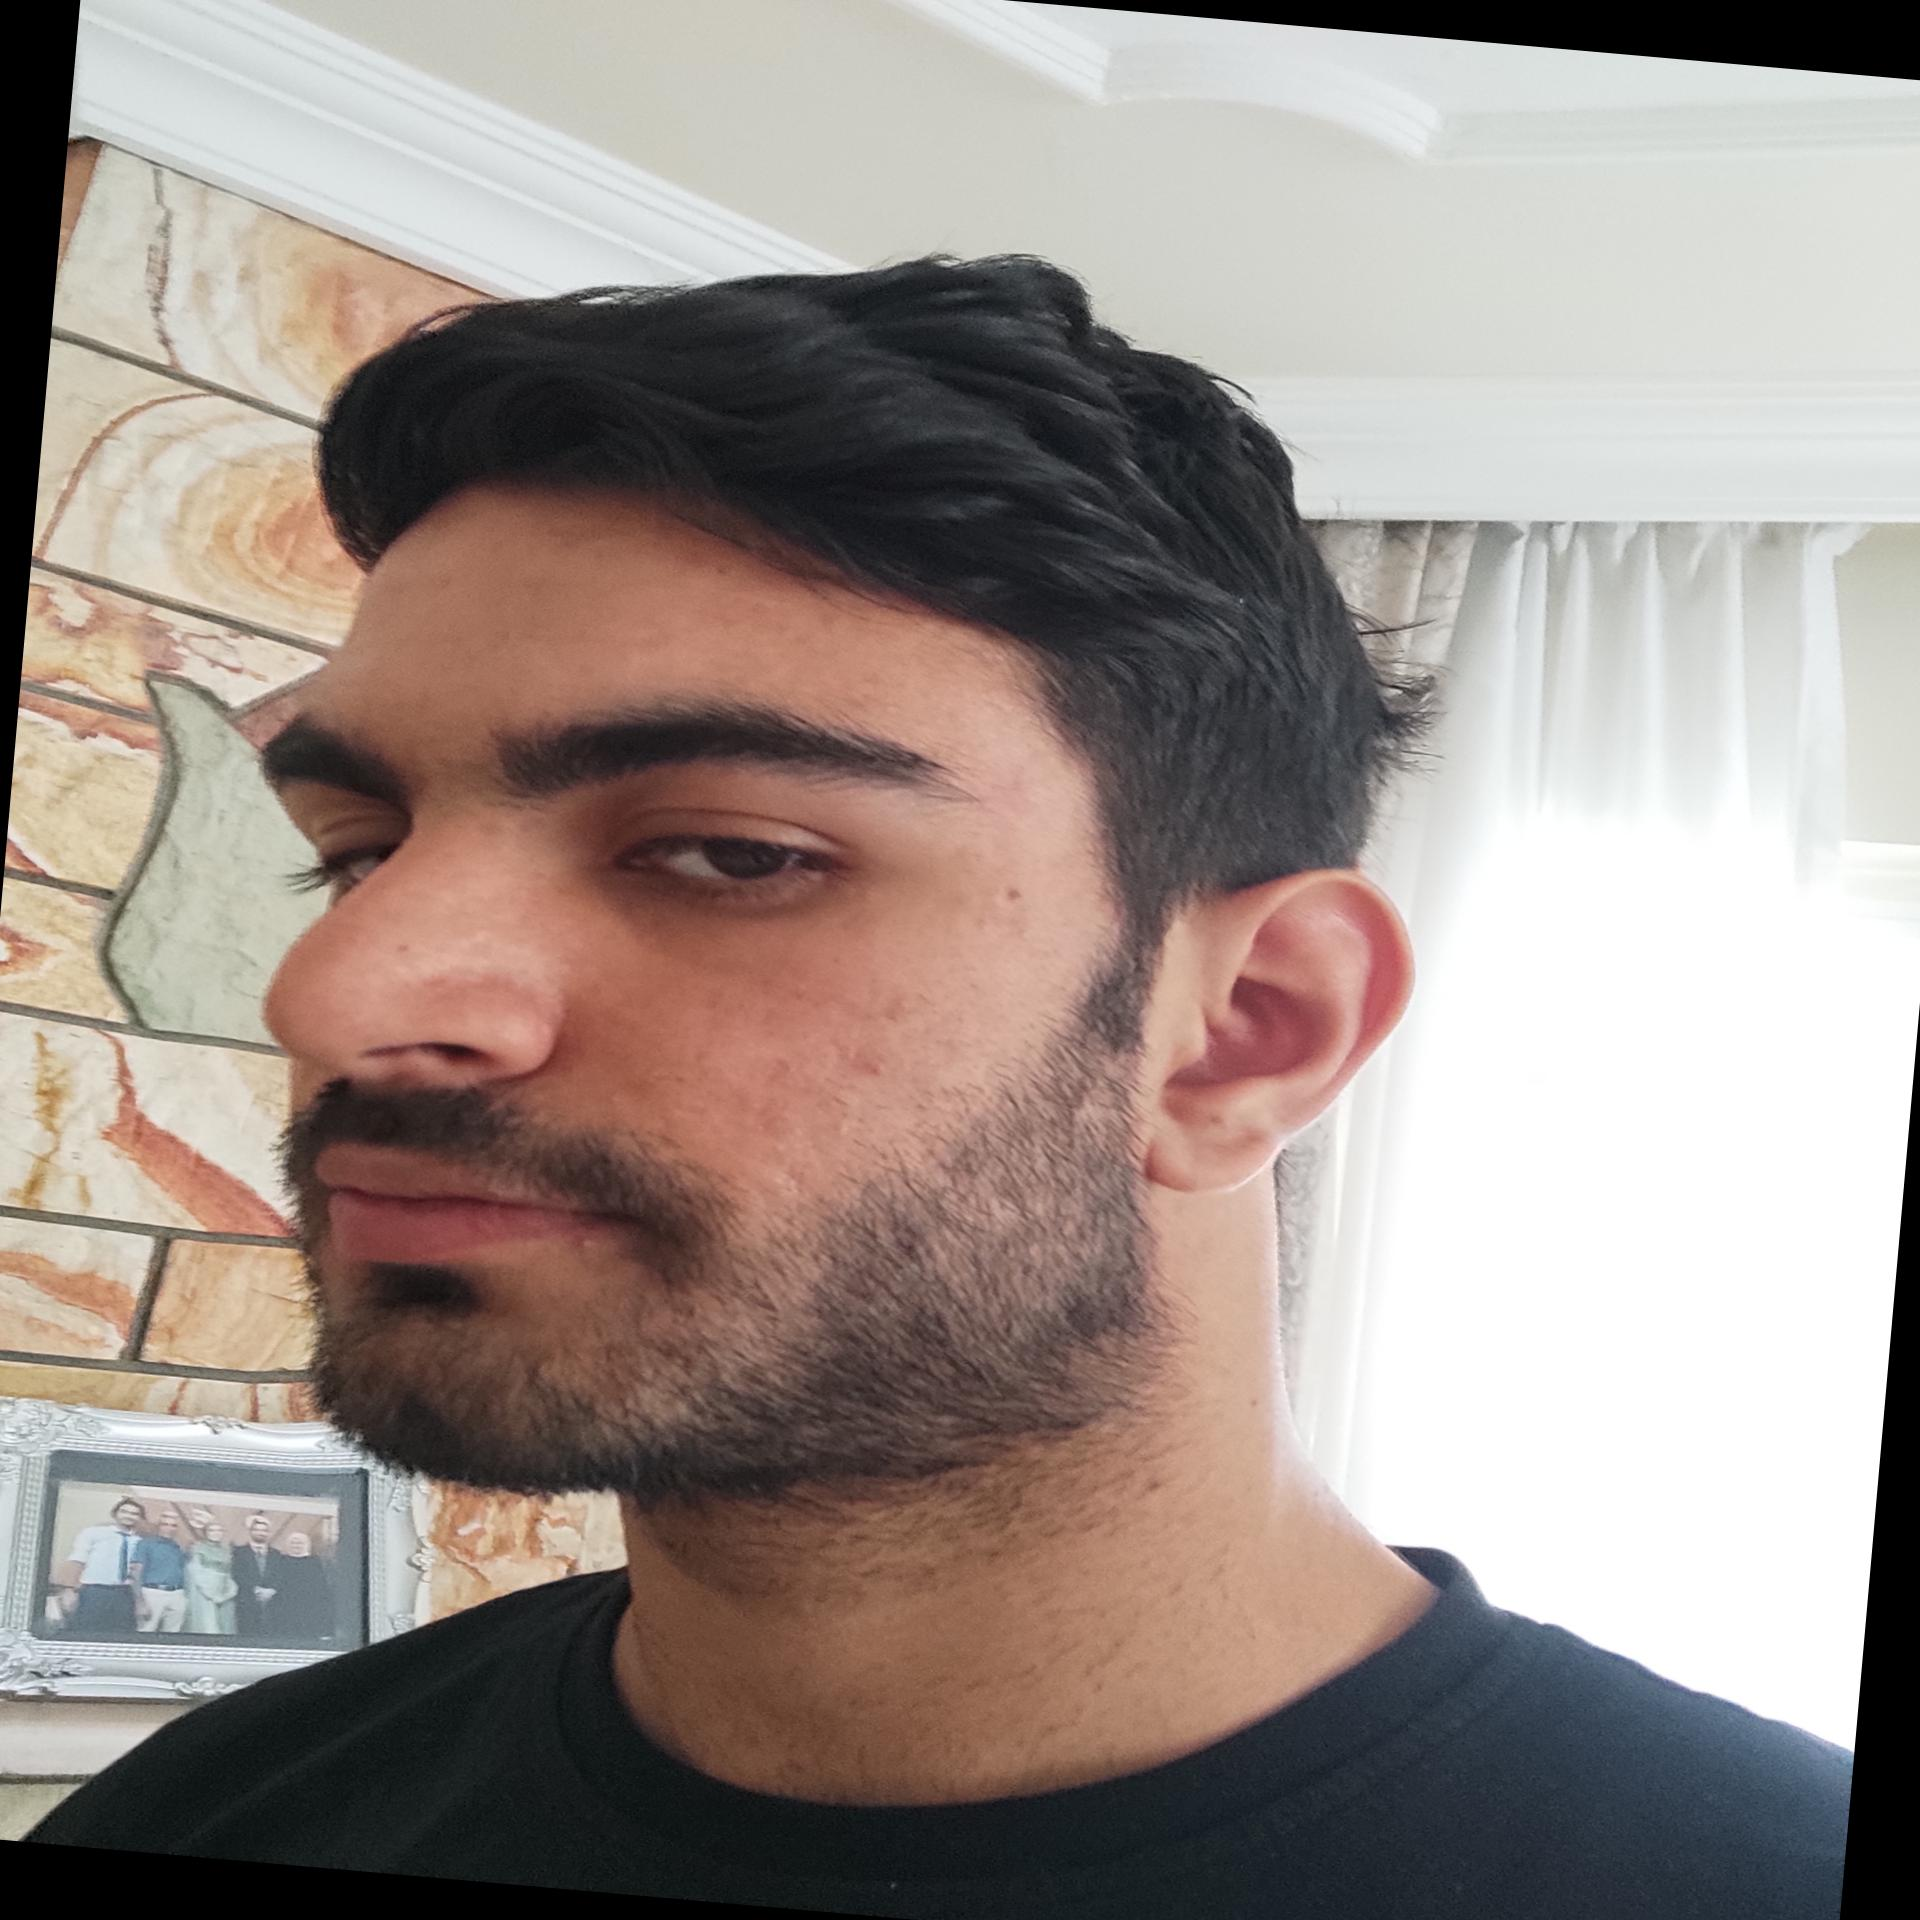Acne: (856, 1051, 897, 1081), (564, 1233, 605, 1257)
Blackhead: (631, 1036, 809, 1141), (700, 965, 934, 1043)
